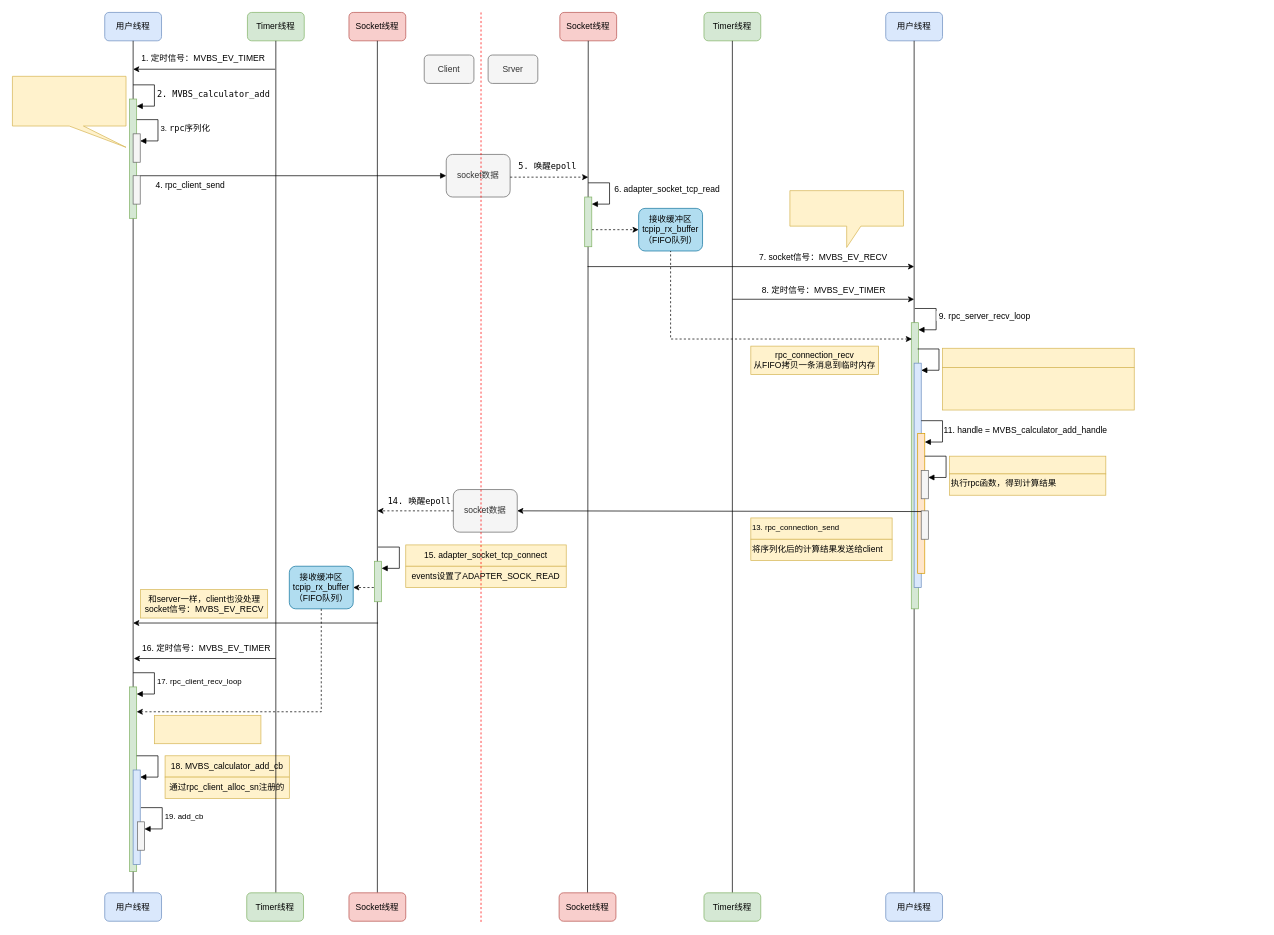
Some shapes in this 1274 by 935 pixel diagram are drawn without their labels. Each missing label, with the centre of its shape:
10. service_entry = calculator_rpc_server_svc_cb: point (1038, 357)
12. svc_cb = MVBS_calculator_add_svc: point (1027, 464)
rpc_client_recv从FIFO 拷贝reply消息到临时内存: point (207, 729)
rpc序列化： MVBS_calculator_add 的入参被序列化到连续内存， 并加上了rpc头部信息: point (69, 111)
查找对应的回调函数，匹配关键字： .interface = "MVBS_calculator", .operation = "add",: point (1038, 388)
这时候可以尝试去读取数据了，但是Demo程序中没有关注这个事件，所以没去读: point (846, 218)
